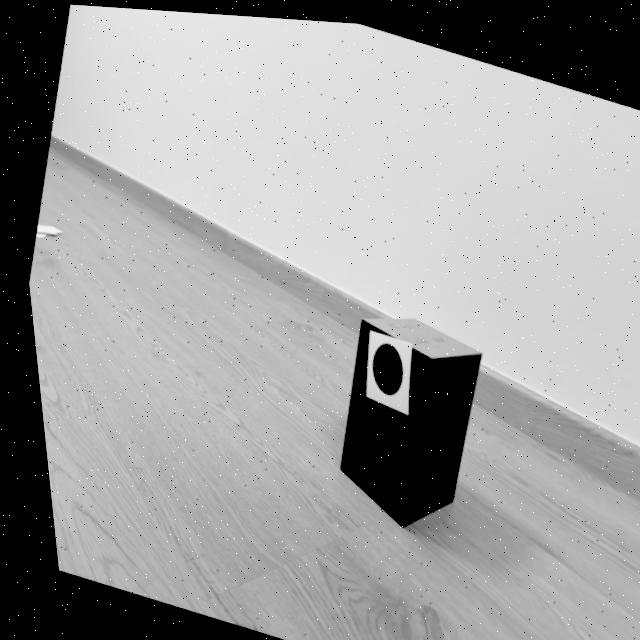CIRCLE: (364, 337, 395, 391)
